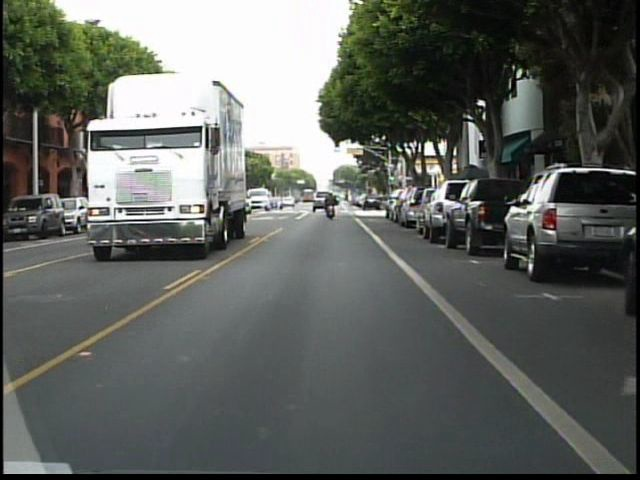person: (324, 192, 338, 223)
